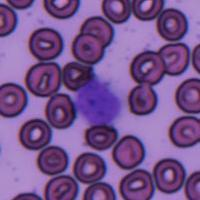L: (75, 76, 125, 126)
